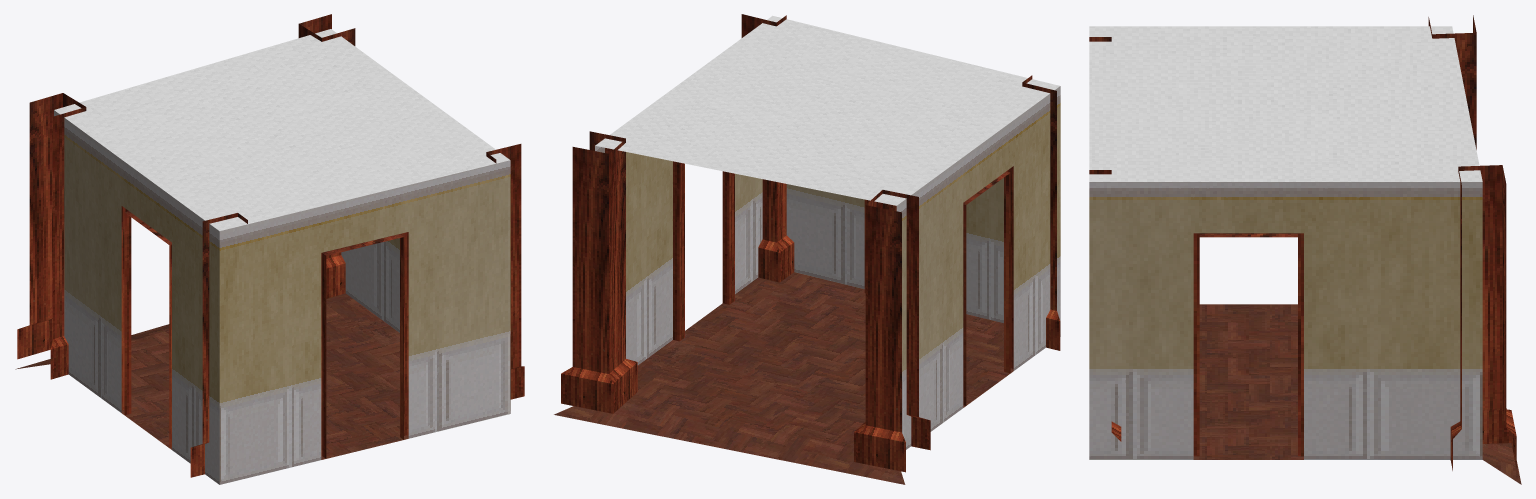
The model's file is hallway_entrance.glb.
The picture shows the model from 3 angles, left to right: view 1: azimuth 30°, elevation 25°; view 2: azimuth 150°, elevation 25°; view 3: azimuth 270°, elevation 25°; orthographic projection. The views are drawn at different scales.
Parts seen in each view (by area): view 1: hallway piece.001, hallway piece.003, pillars, pillars.001, hallway piece.002; view 2: hallway piece.001, pillars, hallway piece.003, pillars.001; view 3: hallway piece.001, pillars.
Part boxes in pixels (x1,y1,x2,y2): hallway piece.001: [15, 29, 509, 484]; hallway piece.003: [219, 160, 510, 484]; pillars: [17, 14, 355, 379]; pillars.001: [190, 144, 524, 477]; hallway piece.002: [321, 232, 408, 458]; hallway piece.001: [554, 15, 1060, 484]; pillars: [561, 131, 930, 472]; hallway piece.003: [786, 178, 1003, 322]; pillars.001: [741, 14, 1060, 350]; hallway piece.001: [1089, 26, 1521, 484]; pillars: [1428, 15, 1516, 470].
Size of the model in its own units: 3.55 by 2.65 by 3.52.
Materials: 6 (6 with a texture image).
